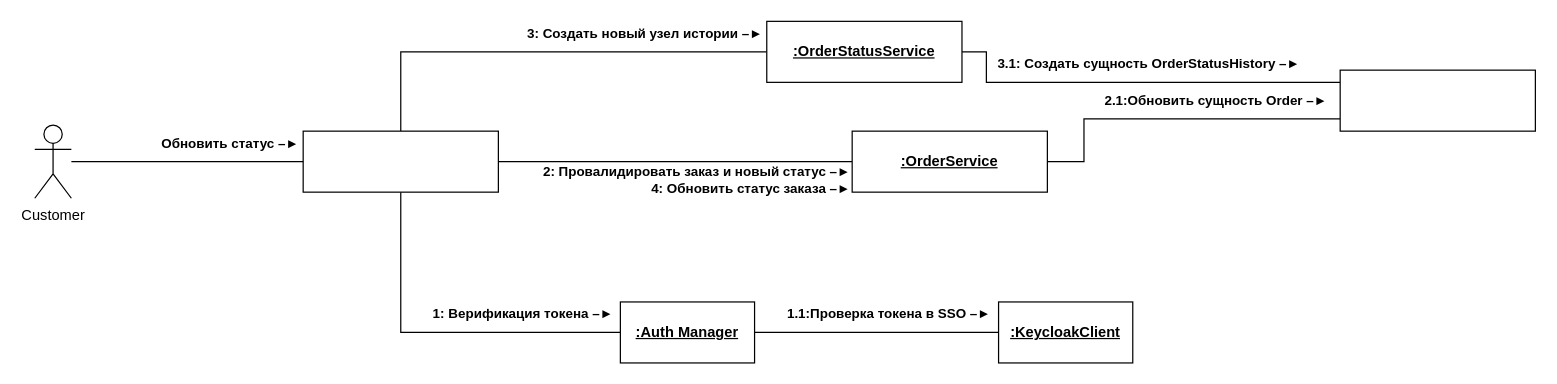
Some shapes in this 1557 by 384 pixel diagram are drawn without their labels. Here are the shapes that lost their labels. From the top down, the box of each, then its label:
(1339, 69, 1535, 131): << abstract >> BaseService
(302, 130, 498, 192): :OrderController
